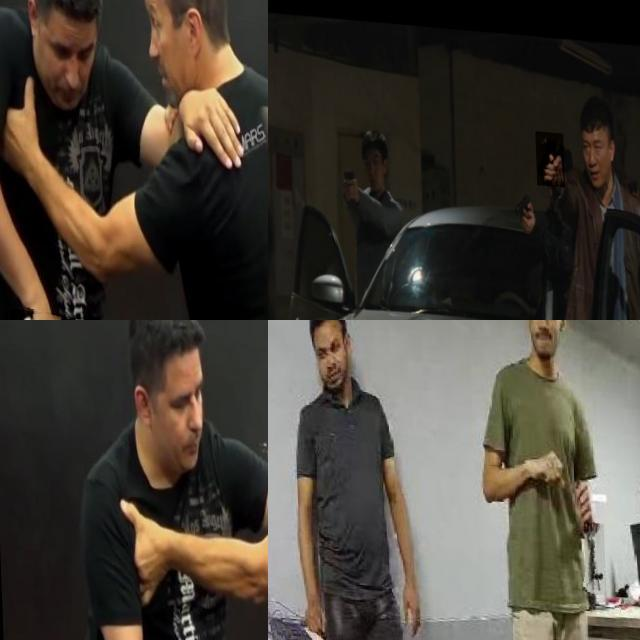-: (581, 514, 603, 586)
gun-knife-thesis - v11 Yolov5 augmented: (534, 126, 564, 182), (511, 186, 534, 231), (340, 163, 358, 206)
